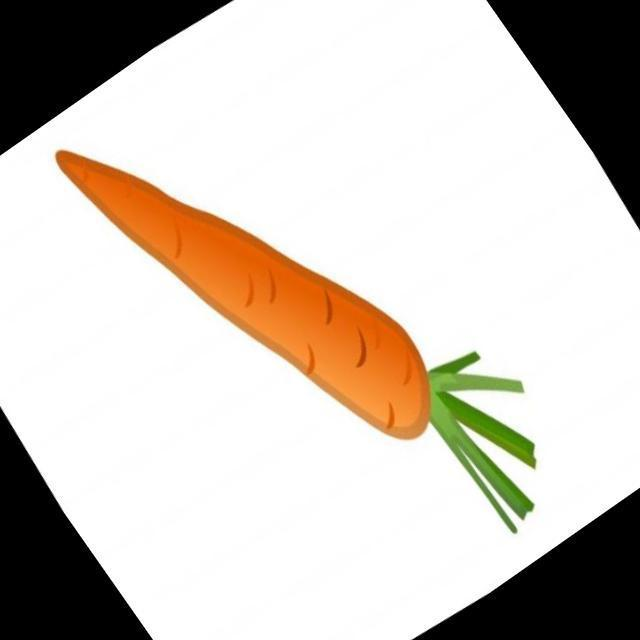Carrot: (56, 151, 534, 532)
